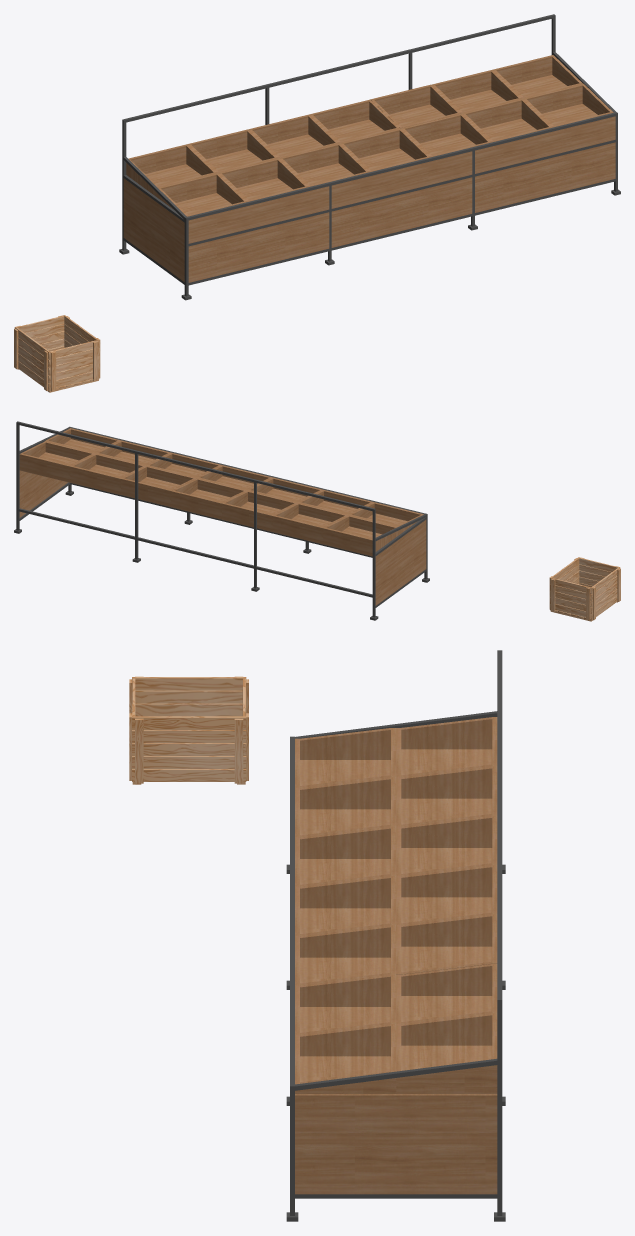
The model's file is FruitsContainers.fbx.
3 renders of one model, top to bottom at view 1: azimuth 30°, elevation 25°; view 2: azimuth 150°, elevation 25°; view 3: azimuth 270°, elevation 25°, orthographic. The views are drawn at different scales.
Parts seen in each view (by area): view 1: FruitsStand, FruitBox; view 2: FruitsStand, FruitBox; view 3: FruitsStand, FruitBox.
Boxes of the visible parts, box(x1,y1,x2,y2) form: FruitsStand: box(119, 14, 620, 300); FruitBox: box(14, 315, 100, 392); FruitsStand: box(14, 421, 429, 620); FruitBox: box(549, 557, 620, 621); FruitsStand: box(286, 650, 505, 1221); FruitBox: box(129, 676, 248, 784).
Bounding box in the file's own units: 498 × 113 × 158.
